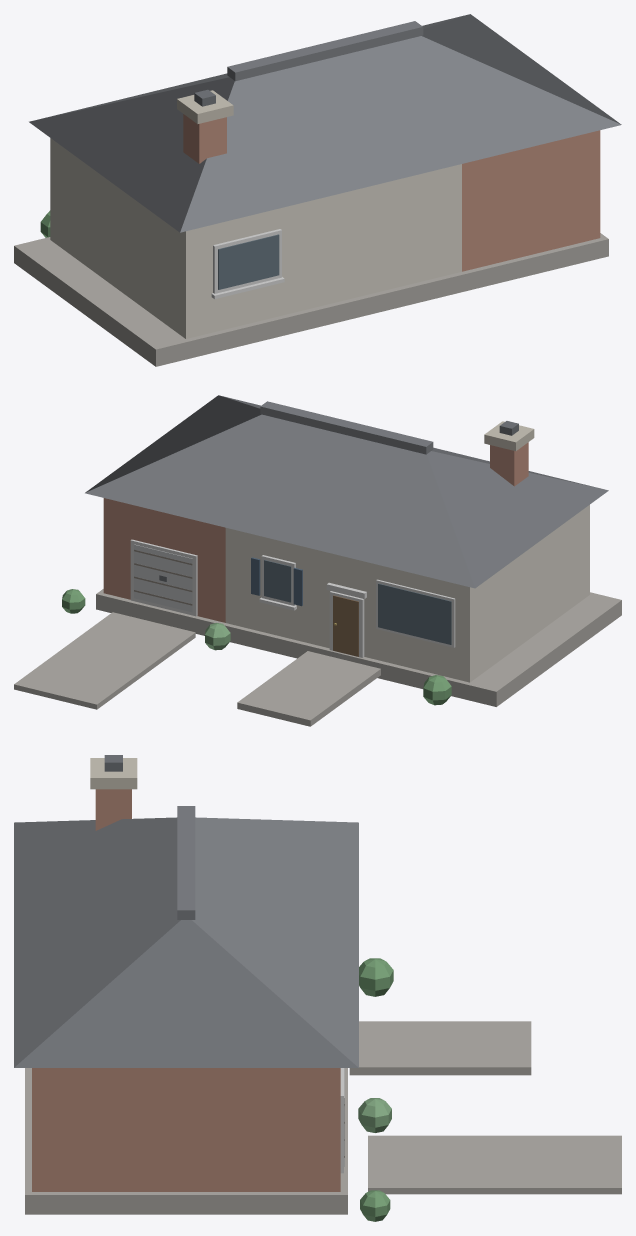
File: ranch_single.glb
3 renders of one model, top to bottom at view 1: azimuth 30°, elevation 25°; view 2: azimuth 150°, elevation 25°; view 3: azimuth 270°, elevation 25°, orthographic. The views are drawn at different scales.
Visible parts, largest first — view 1: Mesh; view 2: Mesh; view 3: Mesh.
Part boxes in pixels (<box>): Mesh: <box>14,14,621,366</box>; Mesh: <box>14,395,621,726</box>; Mesh: <box>14,755,621,1221</box>.
Bounding box in the file's own units: 17.33 × 7.75 × 16.75.
